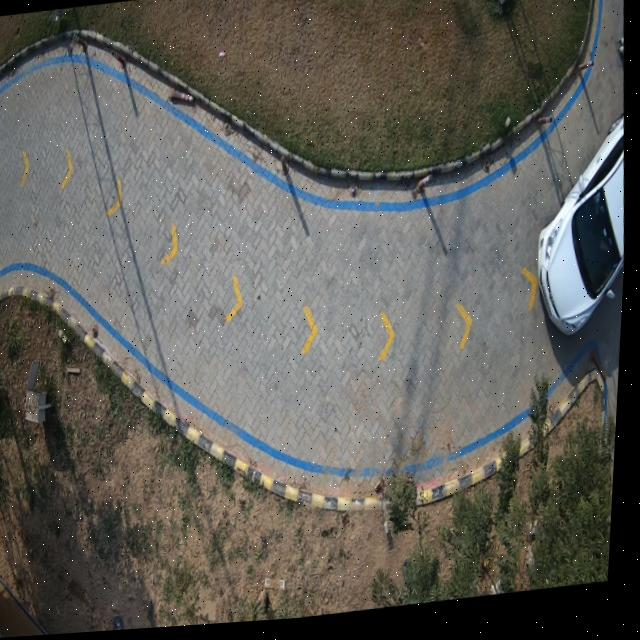car: (541, 126, 627, 348)
